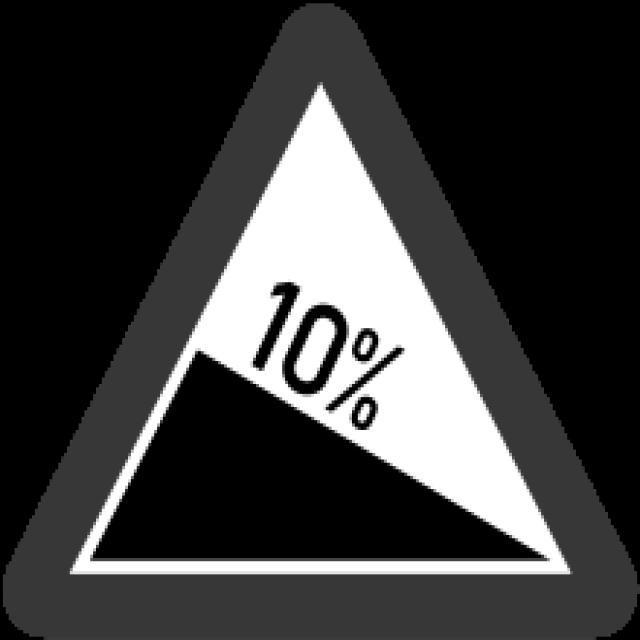steep descent: (23, 24, 617, 627)
